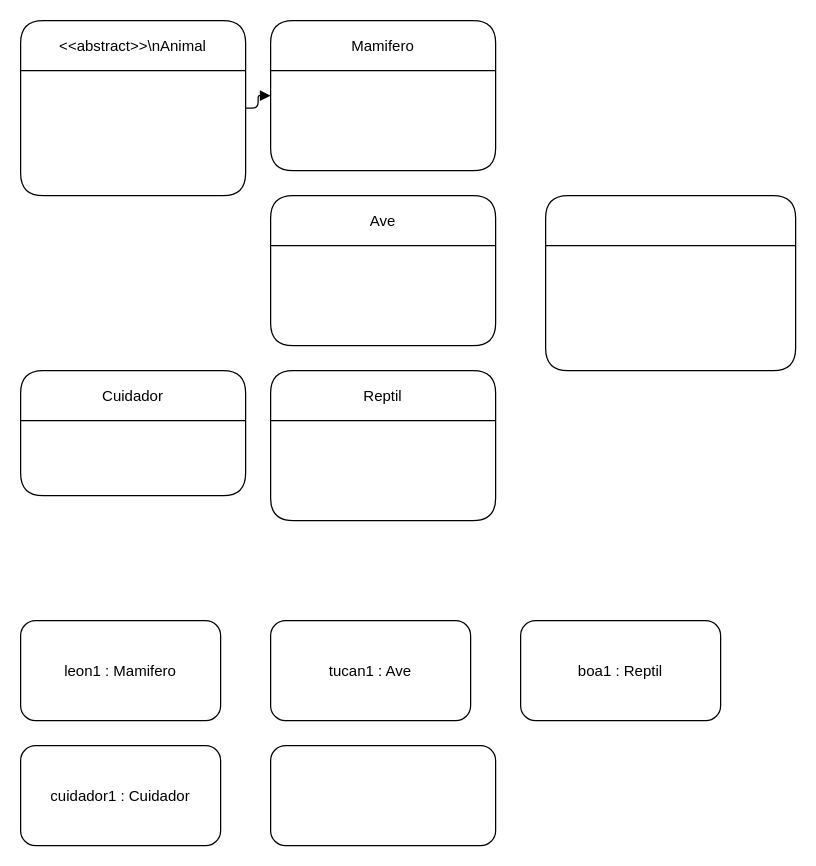
The diagram is 816 pixels wide and 866 high, and some of its shapes have lost their labels. Each missing label, with the centre of its shape:
"zoo1 : Zoologico" belongs at (382,795).
"Zoologico" belongs at (670,282).
